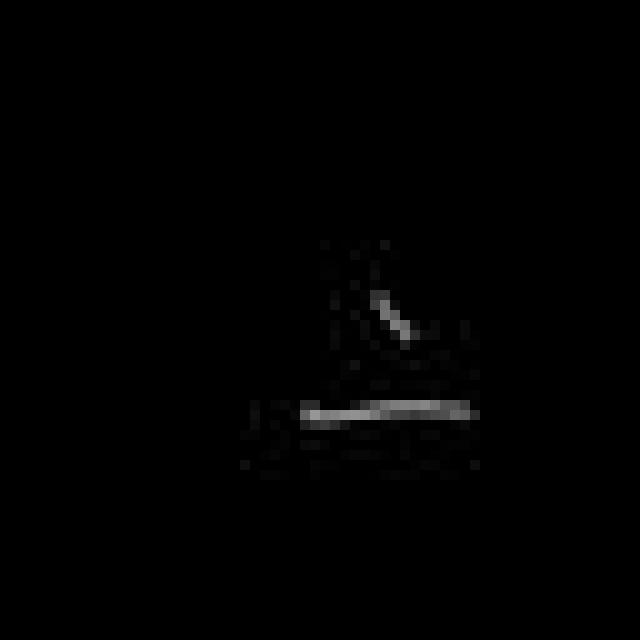2 -two-: (288, 274, 476, 451)
